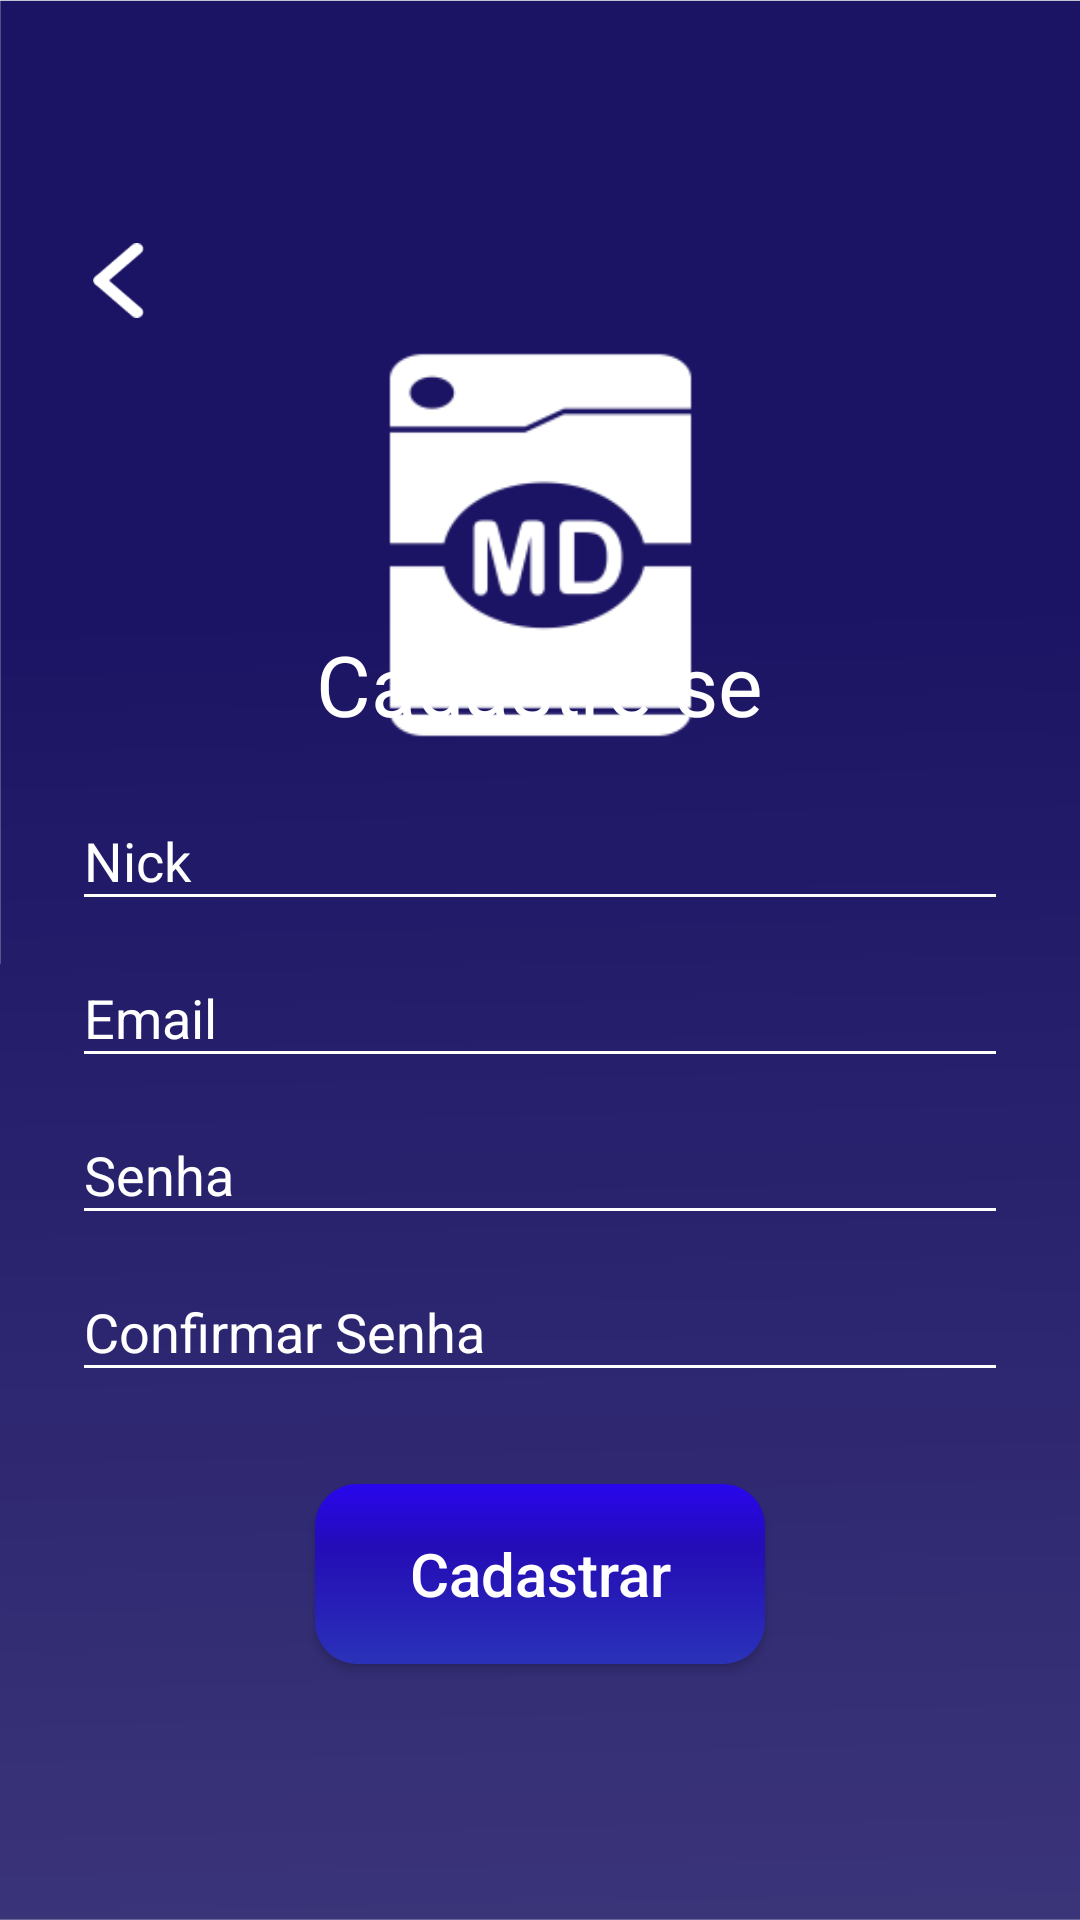

Icons on this 1080px×1920px Android screen, each with its box as BBox(x1, y1, x2, y2):
voltar: BBox(93, 243, 144, 318)
